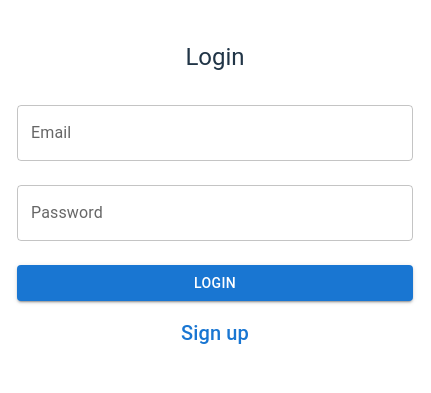
Test: Login › submits wrong email and password
The image size is (431, 393).
Type "user@example.com" into the field labelled "Email".
click(215, 133); type("user@example.com")  # box x1=17 y1=105 x2=413 y2=161
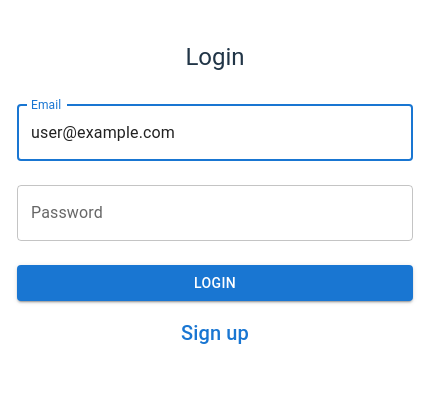
Type "Pass1234!" into the password field labelled "Password".
click(215, 213); type("Pass1234!")  # box x1=17 y1=185 x2=413 y2=241
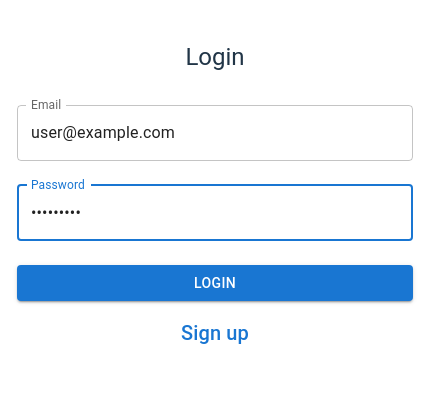
Click the button "Login".
click(215, 283)  # box x1=17 y1=265 x2=413 y2=301
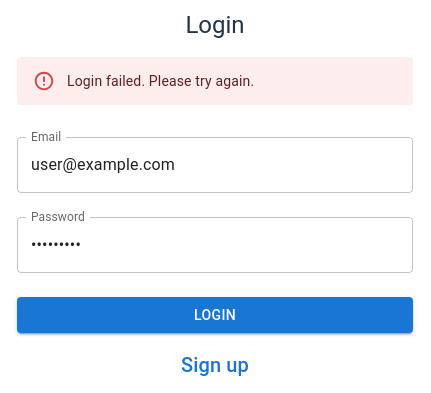
Expected: the message "Login failed. Please try again." is shown, x1=17 y1=57 x2=413 y2=105
